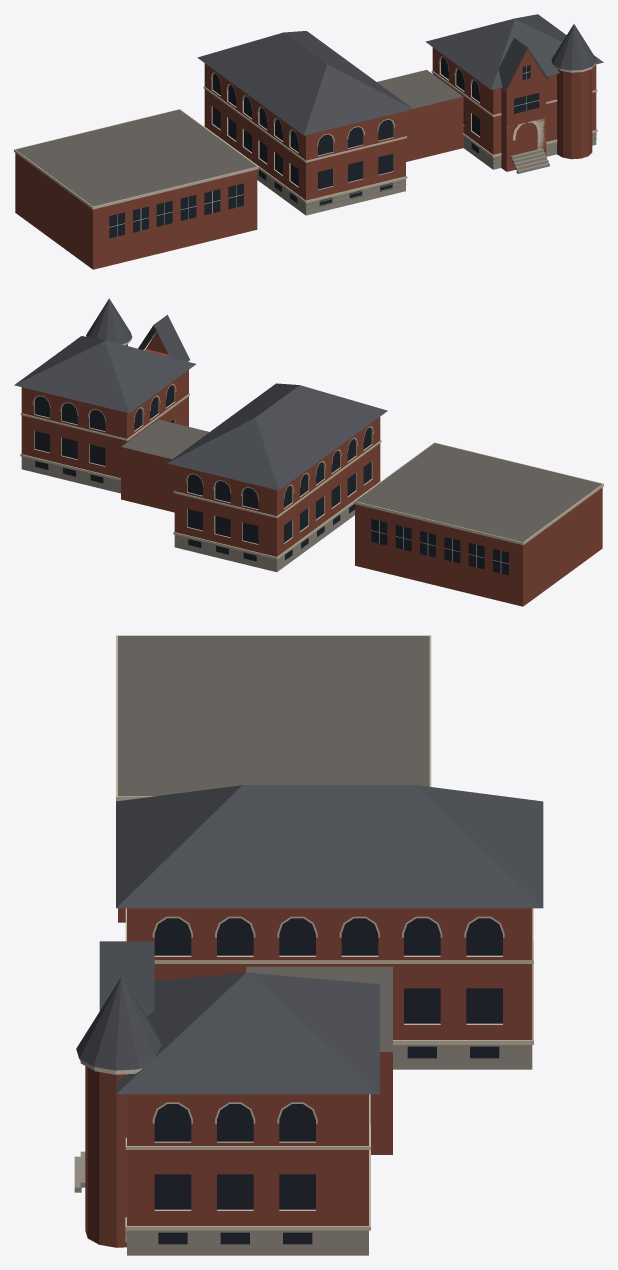
File: kramer-school-1961.glb
3 views of the same model, one above another, from view 1: azimuth 30°, elevation 25°; view 2: azimuth 150°, elevation 25°; view 3: azimuth 270°, elevation 25° (orthographic). The views are drawn at different scales.
Parts seen in each view (by area): view 1: kramer_brick, kramer_slate, kramer_roof, kramer_glass, kramer_stone, kramer_base, kramer_joint; view 2: kramer_brick, kramer_slate, kramer_roof, kramer_glass, kramer_stone, kramer_base; view 3: kramer_slate, kramer_brick, kramer_roof, kramer_glass, kramer_stone, kramer_base.
Boxes of the visible parts, left/top/right/bottom form: kramer_brick: left=15, top=47, right=596, bottom=269; kramer_slate: left=197, top=14, right=603, bottom=135; kramer_roof: left=15, top=70, right=462, bottom=206; kramer_glass: left=109, top=57, right=539, bottom=238; kramer_stone: left=14, top=56, right=597, bottom=209; kramer_base: left=257, top=132, right=596, bottom=215; kramer_joint: left=306, top=133, right=596, bottom=209; kramer_brick: left=21, top=331, right=602, bottom=606; kramer_slate: left=14, top=298, right=387, bottom=490; kramer_roof: left=121, top=419, right=601, bottom=541; kramer_glass: left=34, top=385, right=508, bottom=575; kramer_stone: left=20, top=383, right=603, bottom=559; kramer_base: left=21, top=457, right=354, bottom=572; kramer_slate: left=76, top=785, right=543, bottom=1094; kramer_brick: left=85, top=908, right=532, bottom=1247; kramer_roof: left=118, top=636, right=429, bottom=1051; kramer_glass: left=154, top=918, right=502, bottom=1244; kramer_stone: left=116, top=635, right=533, bottom=1230; kramer_base: left=74, top=1045, right=532, bottom=1255.
Size of the model in its own units: 64.4 by 15.4 by 25.55.
